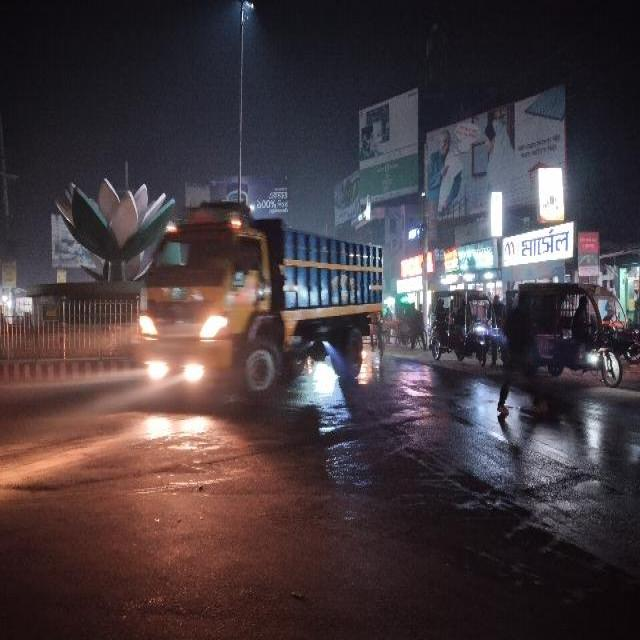vehicle: (147, 200, 386, 392), (515, 277, 629, 394), (429, 290, 498, 363), (394, 300, 429, 347)
